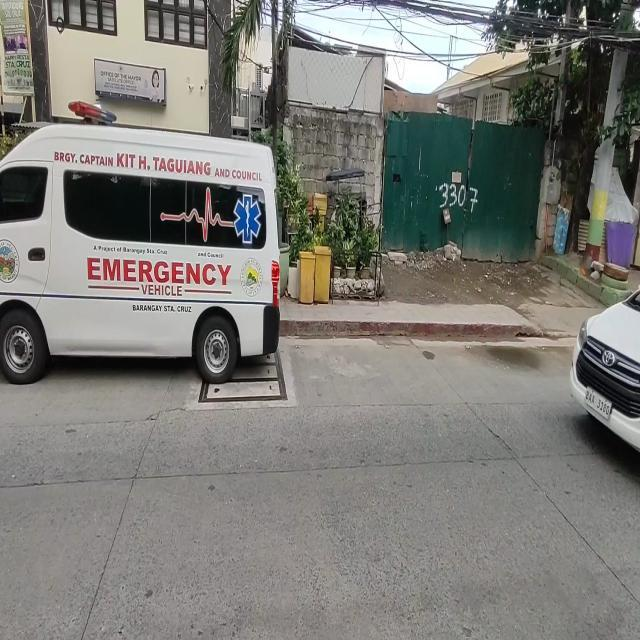emergency-vehicle: (0, 92, 292, 401), (78, 250, 238, 304)
